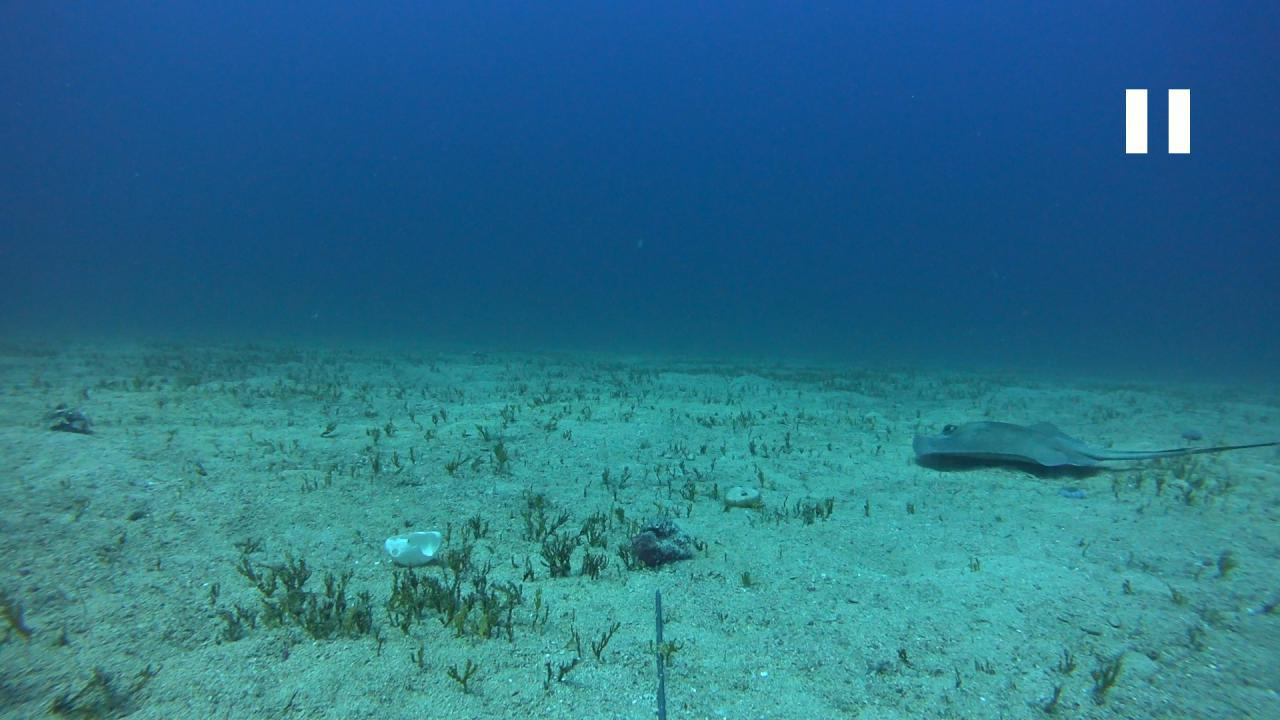dasyatis: (912, 418, 1280, 470)
